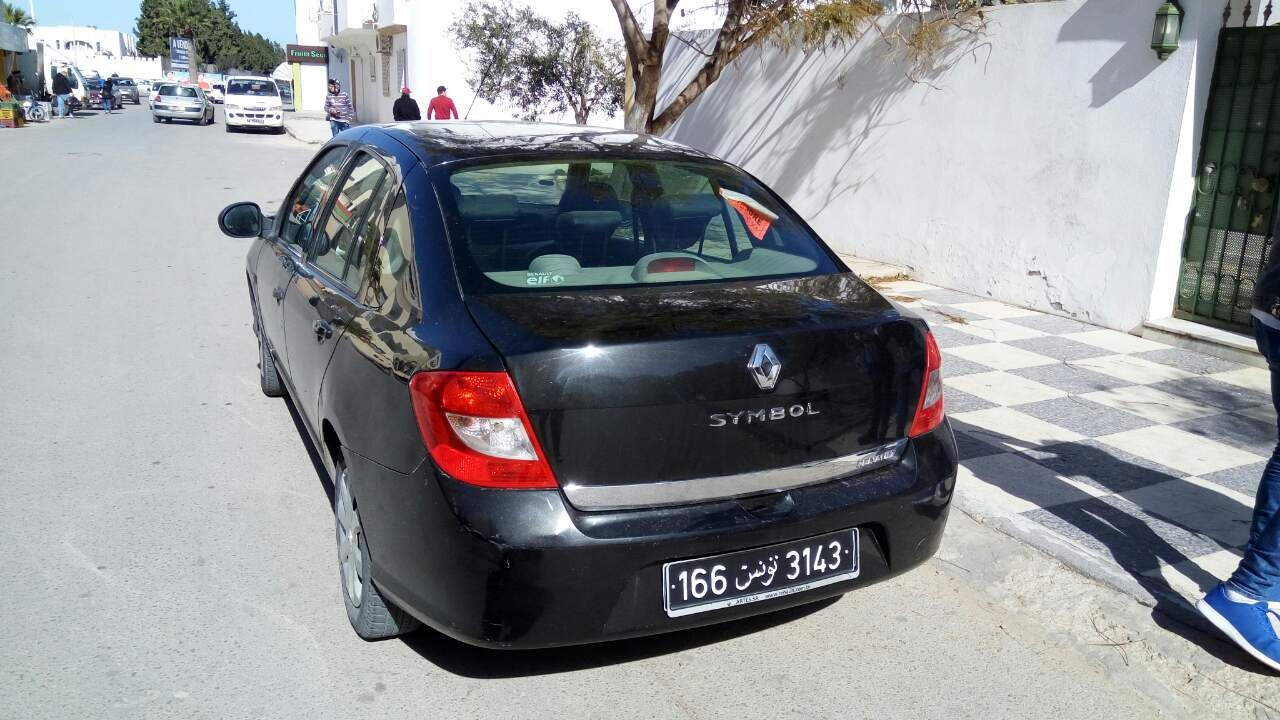LP: (662, 530, 860, 614)
